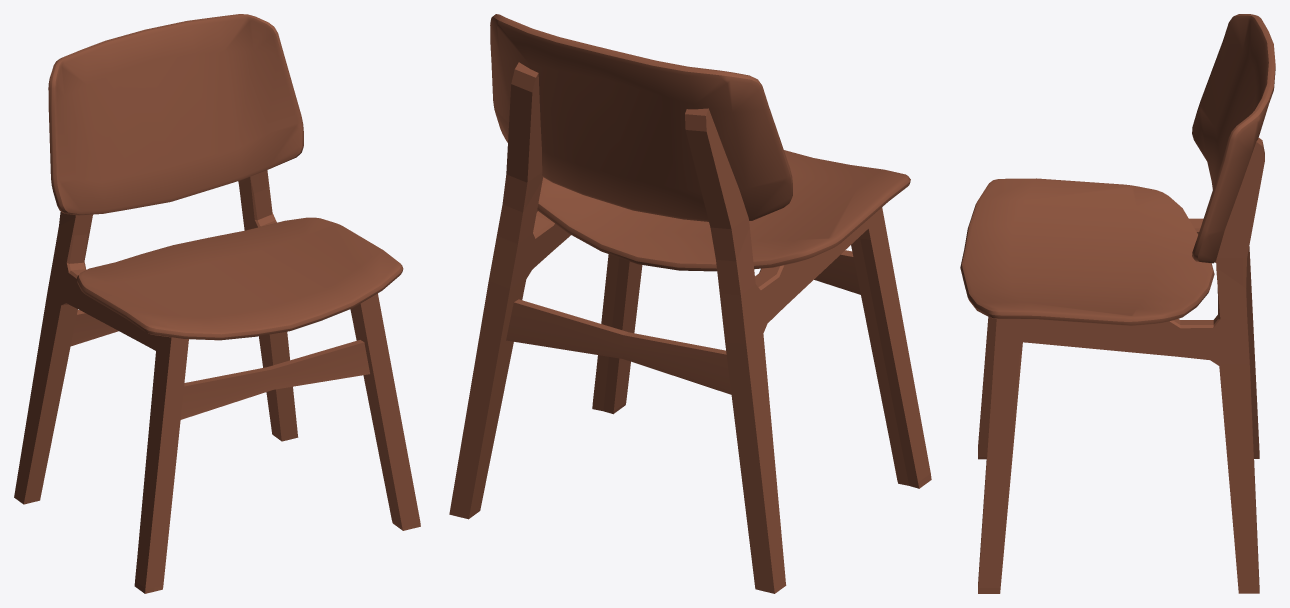
The model's file is Sandalye.fbx.
3 views of the same model, side by side, from view 1: azimuth 30°, elevation 25°; view 2: azimuth 150°, elevation 25°; view 3: azimuth 270°, elevation 25° (orthographic). The views are drawn at different scales.
Parts seen in each view (by area): view 1: Plane; view 2: Plane; view 3: Plane.
Boxes of the visible parts, x1,y1,x2,y2 form: Plane: (14, 14, 420, 593); Plane: (449, 14, 931, 593); Plane: (960, 14, 1275, 593).
Bounding box in the file's own units: 81.39 × 121 × 75.34.
